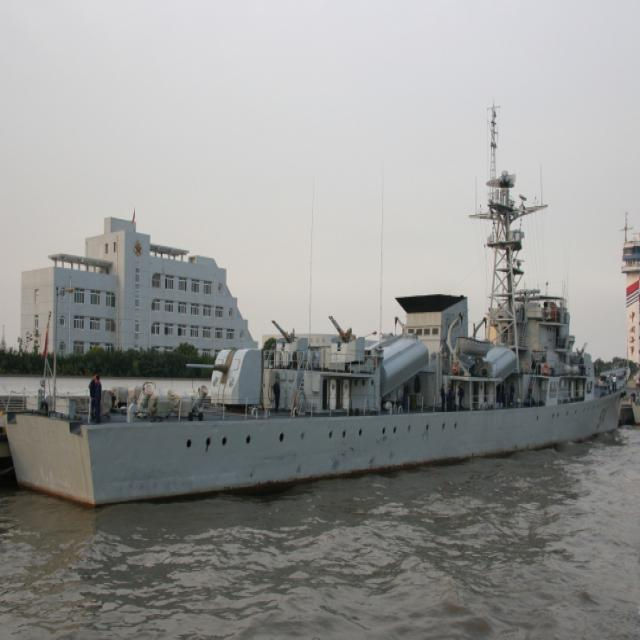Fragata: (1, 60, 639, 514)
